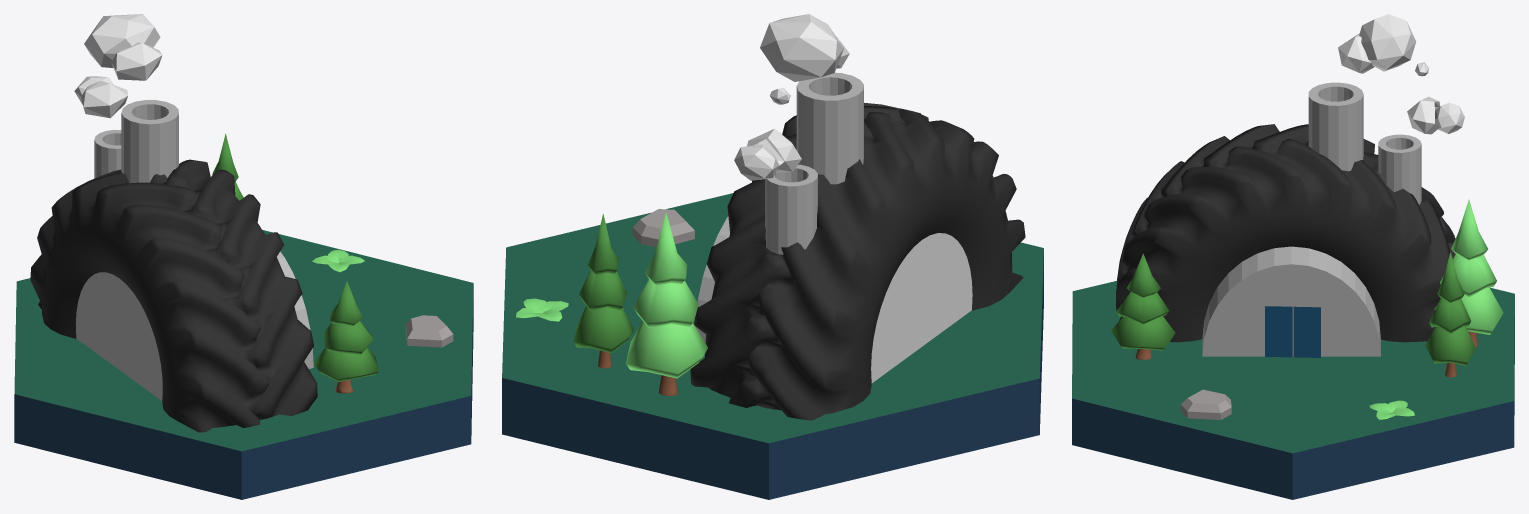
The model's file is Macro - transportation factory lv1.fbx.
3 views of the same model, side by side, from view 1: azimuth 30°, elevation 25°; view 2: azimuth 150°, elevation 25°; view 3: azimuth 270°, elevation 25° (orthographic). The views are drawn at different scales.
Parts seen in each view (by area): view 1: Cylinder.154, Cylinder.017, Cylinder.014, Cylinder, Cloud_1.002, Tree_Spruce_tiny_01.007, Cloud_1.003, Rock Type4 04 mesh.002, Cylinder.002, Cylinder.005, Plane.005, Tree_Spruce_tiny_01.003; view 2: Cylinder.154, Cylinder.017, Cylinder.014, Tree_Spruce_tiny_01.005, Cylinder, Tree_Spruce_tiny_01.003, Cloud_1.002, Cylinder.002, Cloud_1.003, Rock Type4 04 mesh.002, Plane.005, Cylinder.005; view 3: Cylinder.154, Cylinder.017, Cylinder.005, Cylinder, Tree_Spruce_tiny_01.005, Tree_Spruce_tiny_01.007, Tree_Spruce_tiny_01.003, Cloud_1.002, Cylinder.002, Cloud_1.003, Plane.009, Plane.008 (+2 smaller).
Part boxes in pixels (<box>): Cylinder.154: <box>14,230,473,499</box>; Cylinder.017: <box>30,159,317,432</box>; Cylinder.014: <box>75,272,162,400</box>; Cylinder: <box>121,100,178,183</box>; Cloud_1.002: <box>84,14,162,80</box>; Tree_Spruce_tiny_01.007: <box>313,281,378,393</box>; Cloud_1.003: <box>74,76,128,118</box>; Rock Type4 04 mesh.002: <box>405,315,453,347</box>; Cylinder.002: <box>94,130,121,178</box>; Cylinder.005: <box>277,251,313,368</box>; Plane.005: <box>312,249,364,272</box>; Tree_Spruce_tiny_01.003: <box>212,133,243,200</box>; Cylinder.154: <box>502,193,1043,499</box>; Cylinder.017: <box>690,103,1025,420</box>; Cylinder.014: <box>871,233,972,383</box>; Tree_Spruce_tiny_01.005: <box>625,212,707,396</box>; Cylinder: <box>796,72,863,184</box>; Tree_Spruce_tiny_01.003: <box>573,214,633,368</box>; Cloud_1.002: <box>760,14,849,81</box>; Cylinder.002: <box>765,164,817,254</box>; Cloud_1.003: <box>734,128,801,180</box>; Rock Type4 04 mesh.002: <box>632,209,694,247</box>; Plane.005: <box>516,298,568,321</box>; Cylinder.005: <box>695,216,729,342</box>; Cylinder.154: <box>1072,281,1514,499</box>; Cylinder.017: <box>1116,124,1455,342</box>; Cylinder.005: <box>1202,246,1380,356</box>; Cylinder: <box>1308,82,1363,171</box>; Tree_Spruce_tiny_01.005: <box>1434,199,1503,347</box>; Tree_Spruce_tiny_01.007: <box>1111,253,1175,359</box>; Tree_Spruce_tiny_01.003: <box>1425,252,1475,377</box>; Cloud_1.002: <box>1338,14,1416,73</box>; Cylinder.002: <box>1378,134,1421,204</box>; Cloud_1.003: <box>1407,96,1464,134</box>; Plane.009: <box>1265,306,1292,357</box>; Plane.008: <box>1293,306,1320,357</box>.
Size of the model in its own units: 197 by 166 by 172.
